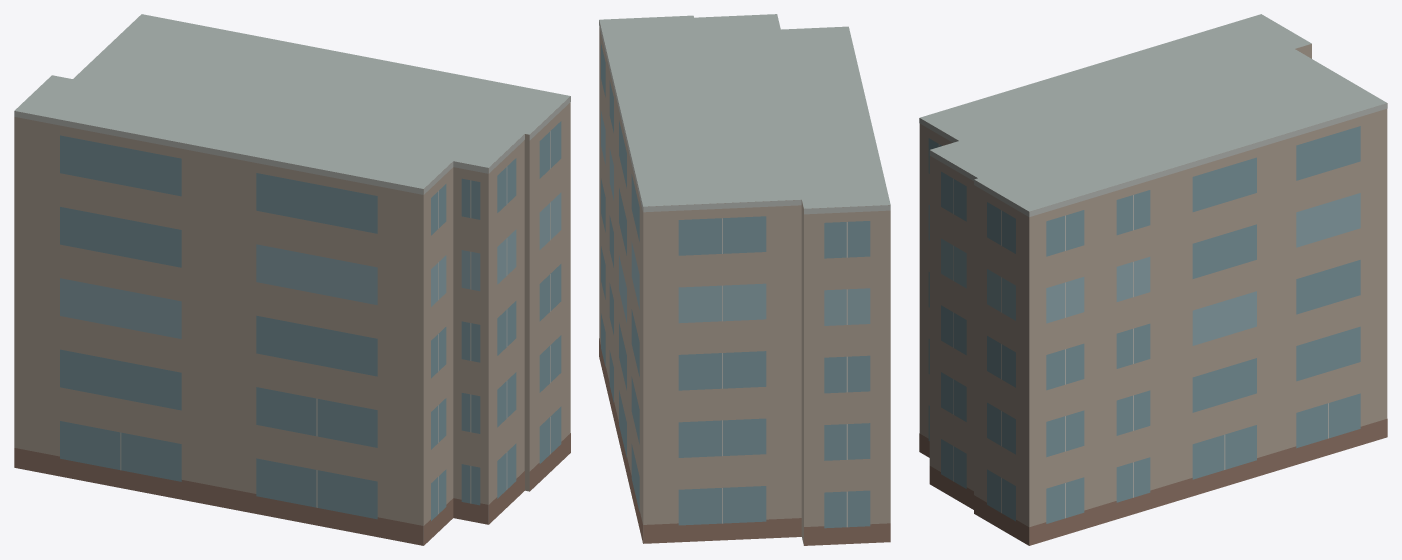
Rendered from survey-upis-32613369.glb.
3 views of the same model, side by side, from view 1: azimuth 30°, elevation 25°; view 2: azimuth 150°, elevation 25°; view 3: azimuth 270°, elevation 25° (orthographic). The views are drawn at different scales.
Visible parts, largest first — view 1: survey-upis-32613369.tmp; view 2: survey-upis-32613369.tmp; view 3: survey-upis-32613369.tmp.
Boxes of the visible parts, left/top/right/bottom form: survey-upis-32613369.tmp: left=14, top=14, right=570, bottom=545; survey-upis-32613369.tmp: left=599, top=14, right=890, bottom=545; survey-upis-32613369.tmp: left=919, top=14, right=1387, bottom=545.
Size of the model in its own units: 18.66 by 14.7 by 18.66.
